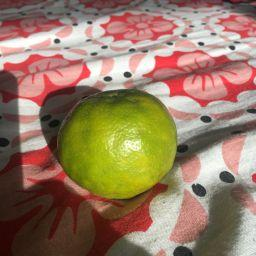orange: (56, 88, 179, 201)
